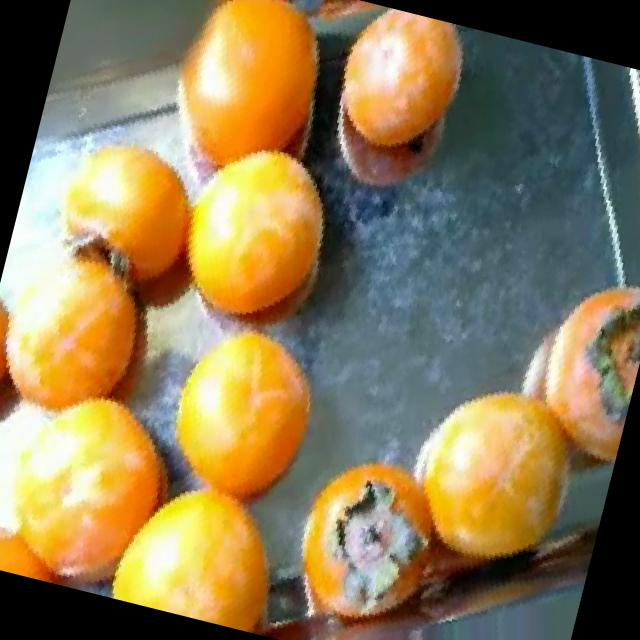Fruit: (135, 290, 360, 544), (300, 0, 502, 232), (519, 250, 640, 445), (583, 264, 640, 414)
